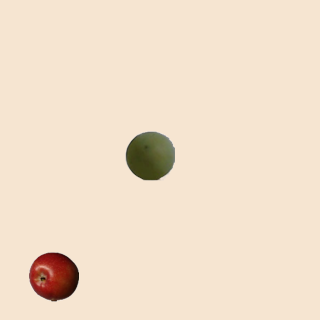Apple Braeburn: (28, 251, 78, 301)
Grape White 4: (124, 130, 174, 180)
